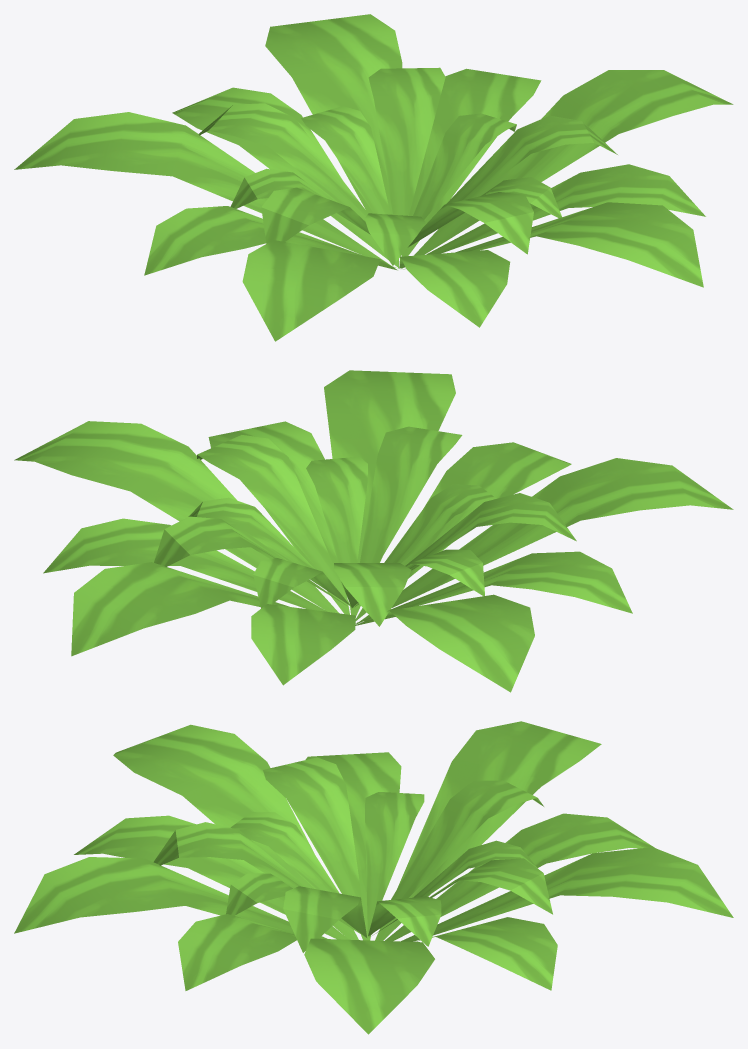
File: bush1.fbx
The picture shows the model from 3 angles, top to bottom: view 1: azimuth 30°, elevation 25°; view 2: azimuth 150°, elevation 25°; view 3: azimuth 270°, elevation 25°; orthographic projection. The views are drawn at different scales.
Visible parts, largest first — view 1: Bush.016; view 2: Bush.016; view 3: Bush.016.
Part boxes in pixels (x1,y1,x2,y2): Bush.016: (14, 14, 733, 341); Bush.016: (14, 370, 733, 692); Bush.016: (14, 721, 733, 1034).
Size of the model in its own units: 275 by 54.24 by 287.
